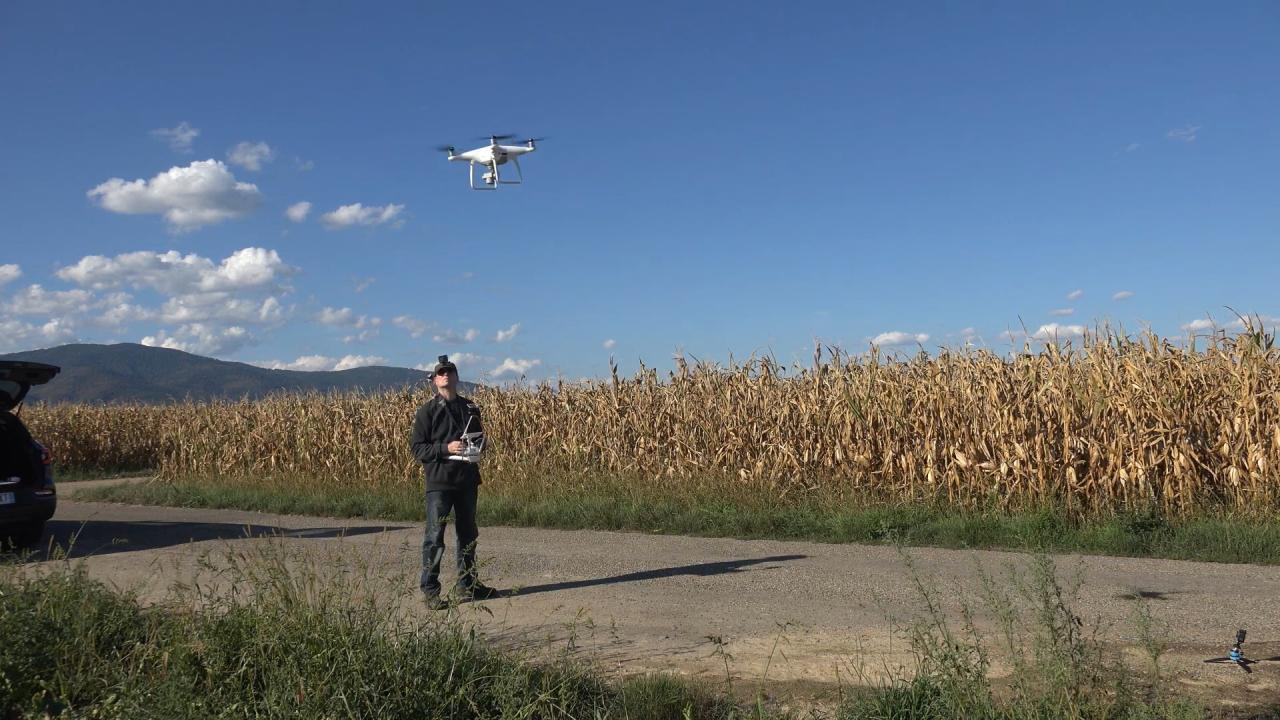Drone: (424, 123, 559, 197)
